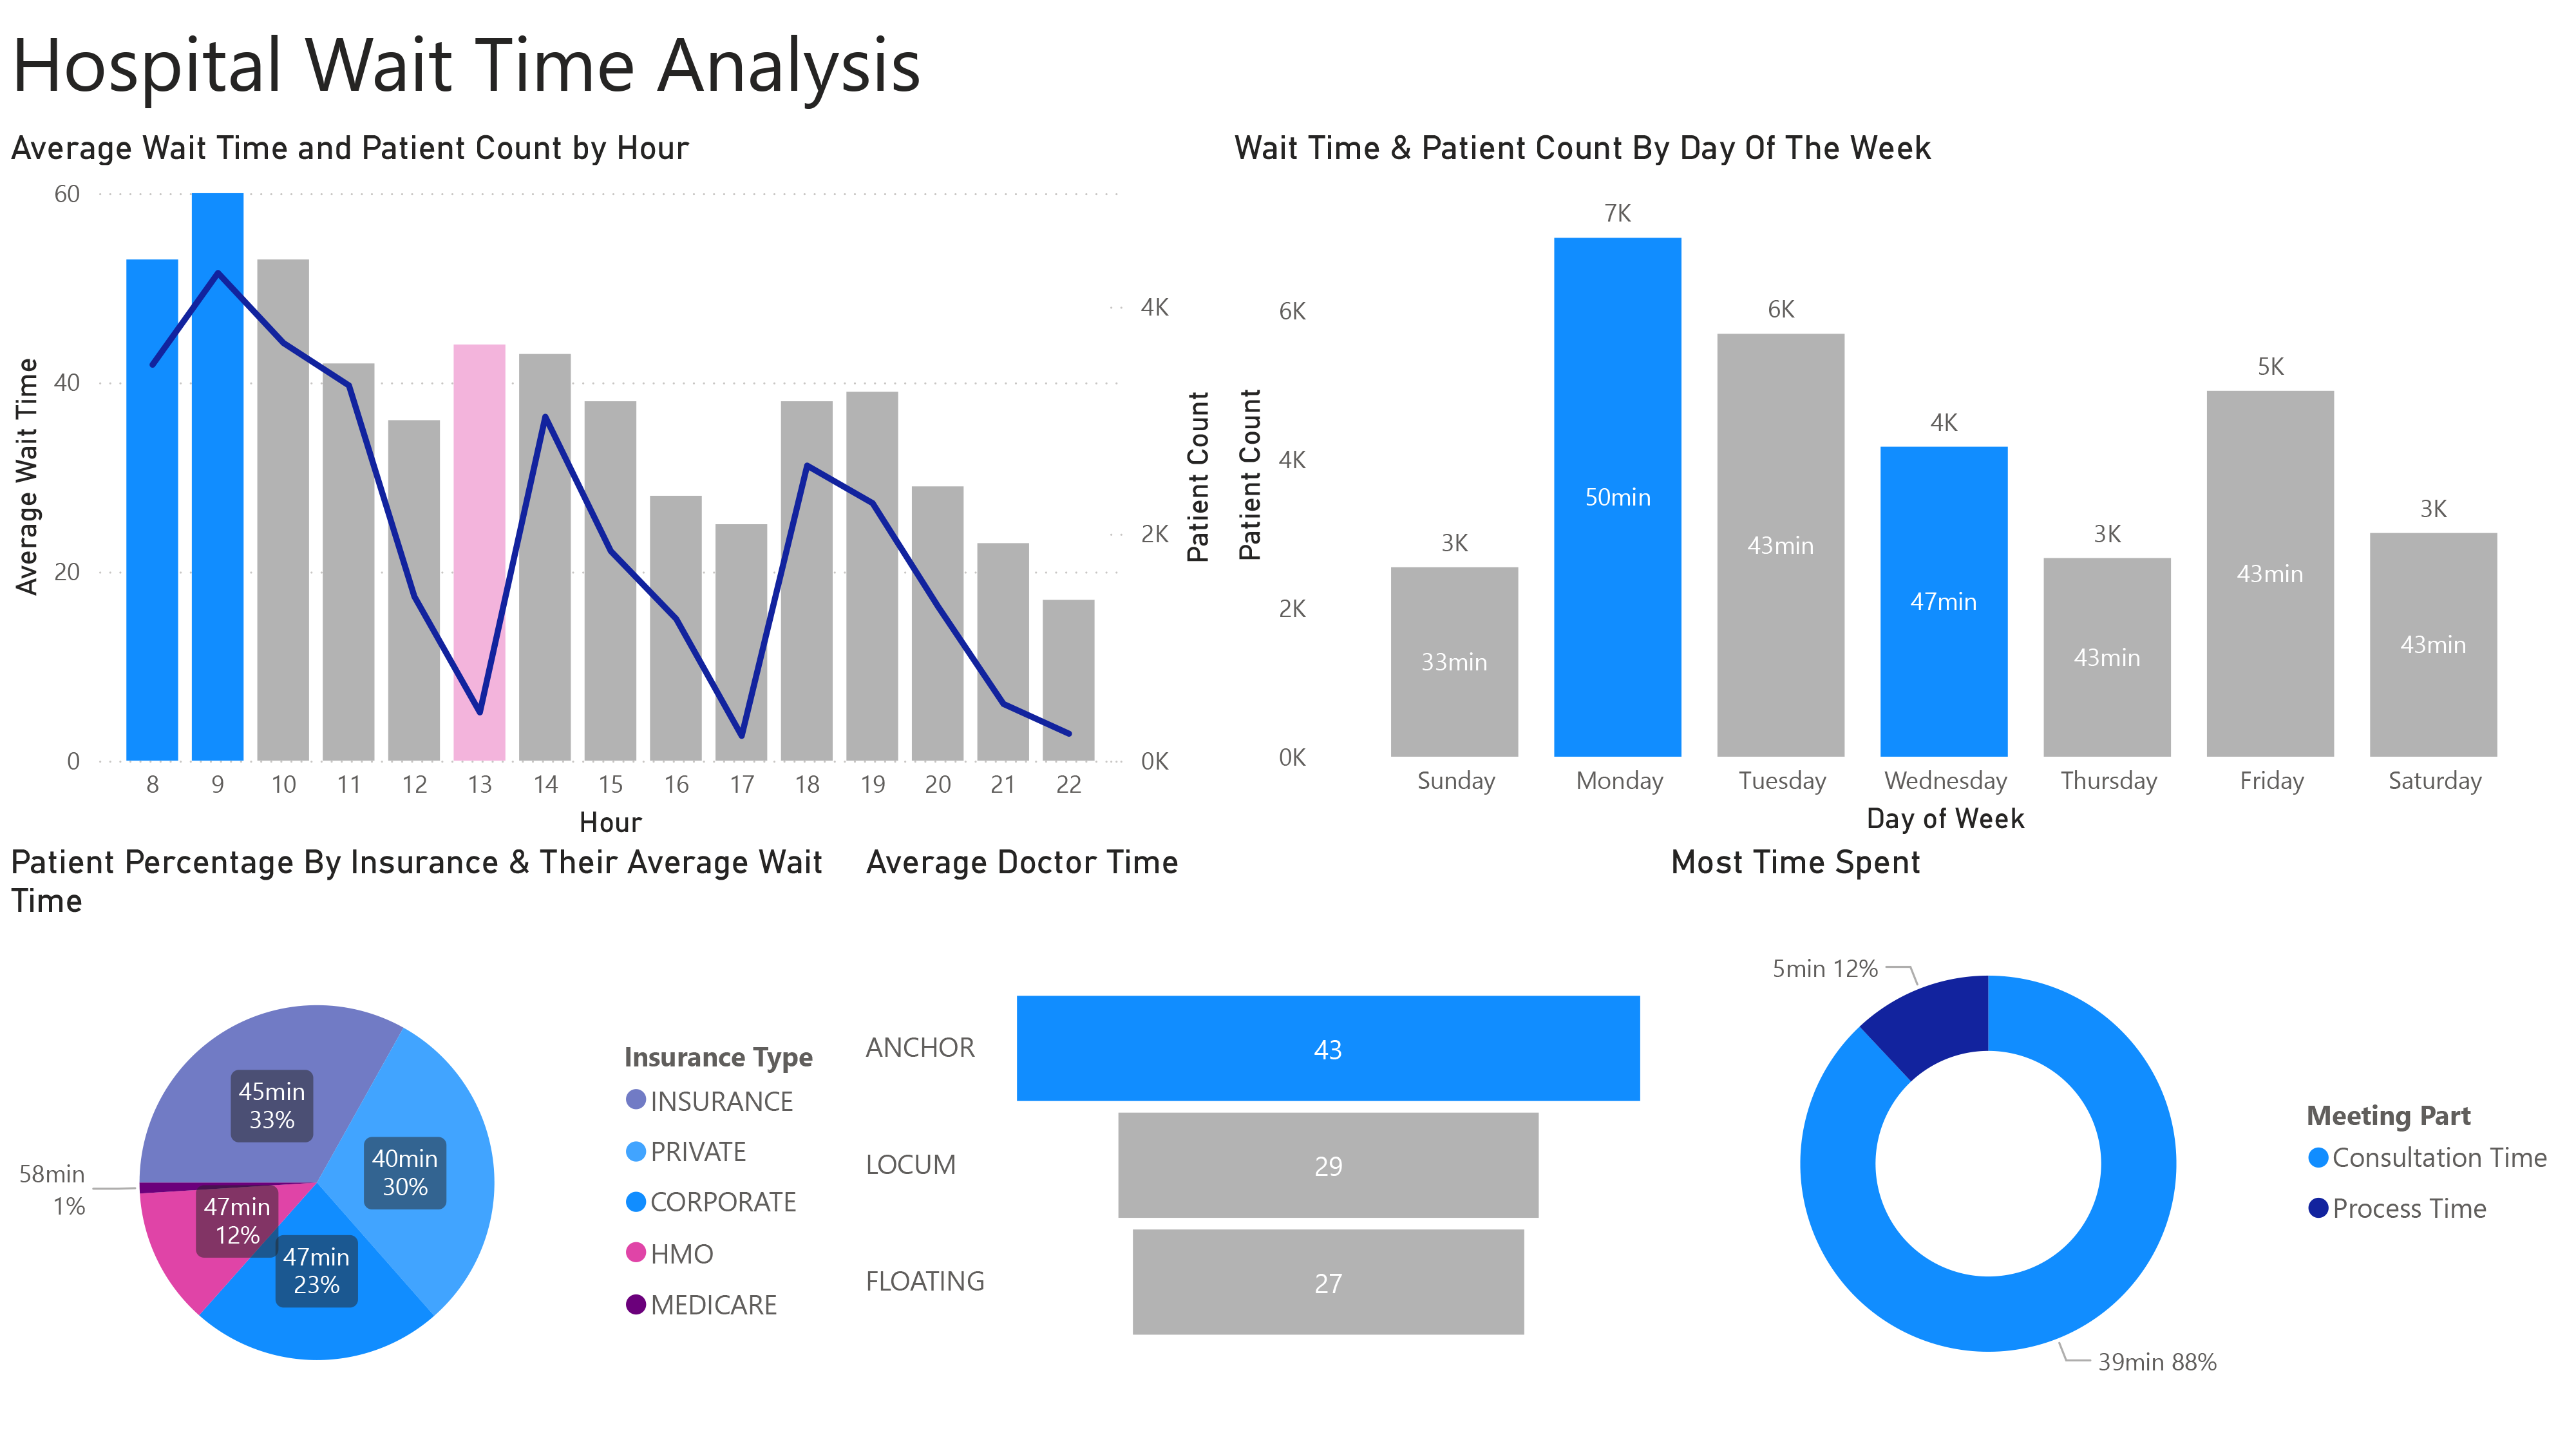

Layout of this report page (visuals, bound fields, positions):
{"tool":"powerbi","page":{"name":"Page 1","canvas":[1280,720],"ordinal":0},"visuals":[{"type":"pieChart","title":"Patient Percentage By Insurance & Their Average Wait Time","fields":{"Category":["Insurance.Insurance Type"],"Y":["Sum(Insurance.Patient Percentage)"],"Series":["Insurance.Average Wait Time"]},"box":[0,418.3,425,301.7],"z":0},{"type":"donutChart","title":"Most Time Spent","fields":{"Category":["ConsultationTime.Meeting Part"],"Y":["Sum(ConsultationTime.Percentage)"],"Series":["ConsultationTime.Average Wait Time"]},"box":[825,418.3,455,301.7],"z":1000},{"type":"funnel","title":"Average Doctor Time","fields":{"Category":["Doctor.Doctor"],"Y":["Sum(Doctor.Time for Consult - Copy)"]},"box":[425,418.3,400,301.7],"z":2000},{"type":"columnChart","title":"Wait Time & Patient Count By Day Of The Week","fields":{"Y":["Sum(DayOfWeek.Patient Count)"],"Series":["DayOfWeek.Average Wait Time"],"Category":["DayOfWeek.Day of Week"]},"box":[608.3,63.3,671.7,356.7],"z":3000},{"type":"lineClusteredColumnComboChart","title":"Average Wait Time and Patient Count by Hour","fields":{"Category":["Hour.Hour"],"Y2":["Sum(Hour.Patient Count)"],"Y":["Sum(Hour.Average Wait Time)"]},"box":[0,63.3,608.3,358.3],"z":4000},{"type":"textbox","box":[0,0,493.3,63.3],"z":4001}]}

Visuals, with their boxes in screenshot pixels (x1, y1, x2, y2), scaled from the page's 1280x720 canvas onto the 2576x1449 screenshot:
"Patient Percentage By Insurance & Their Average Wait Time" pieChart: l=0, t=842, r=855, b=1448
"Most Time Spent" donutChart: l=1660, t=842, r=2575, b=1448
"Average Doctor Time" funnel: l=855, t=842, r=1660, b=1448
"Wait Time & Patient Count By Day Of The Week" columnChart: l=1224, t=128, r=2575, b=845
"Average Wait Time and Patient Count by Hour" lineClusteredColumnComboChart: l=0, t=128, r=1224, b=849
textbox: l=0, t=0, r=993, b=128
